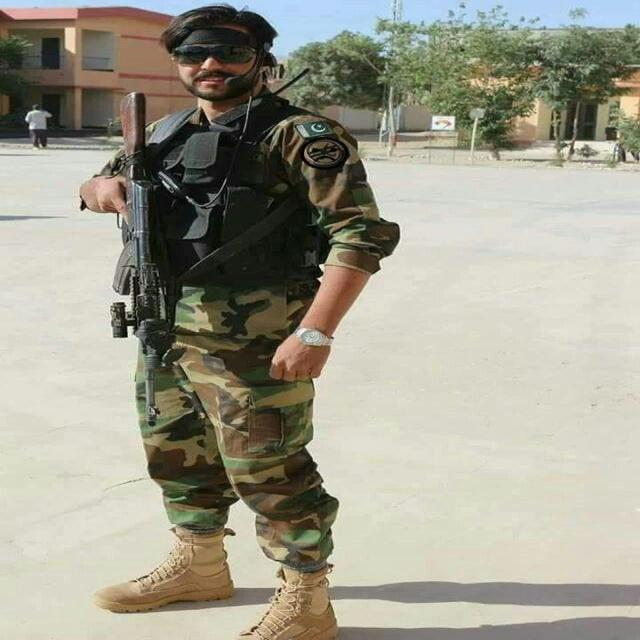Militant: (98, 3, 418, 640)
